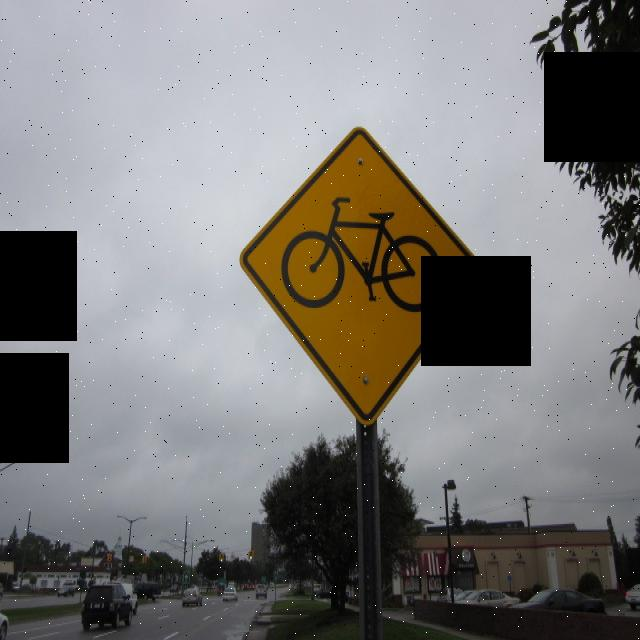warning: (237, 114, 486, 430)
